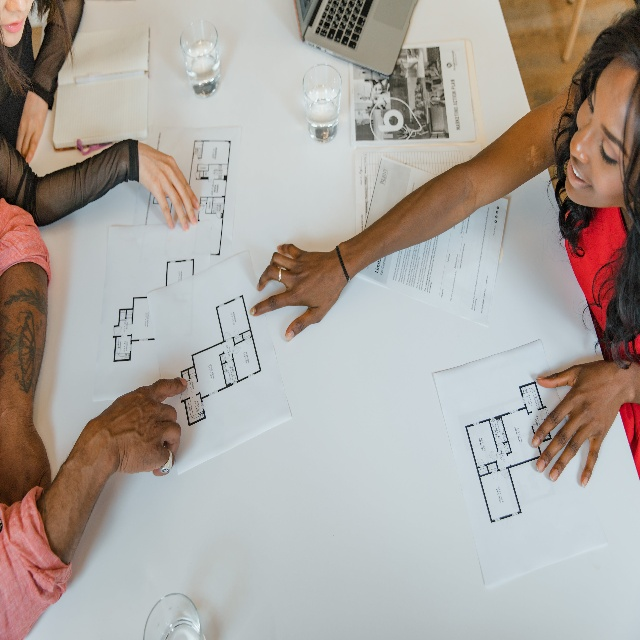Sin_guantes: (528, 358, 640, 491), (248, 243, 344, 342), (101, 373, 188, 478), (138, 141, 199, 234), (0, 420, 53, 500), (14, 91, 53, 164)
